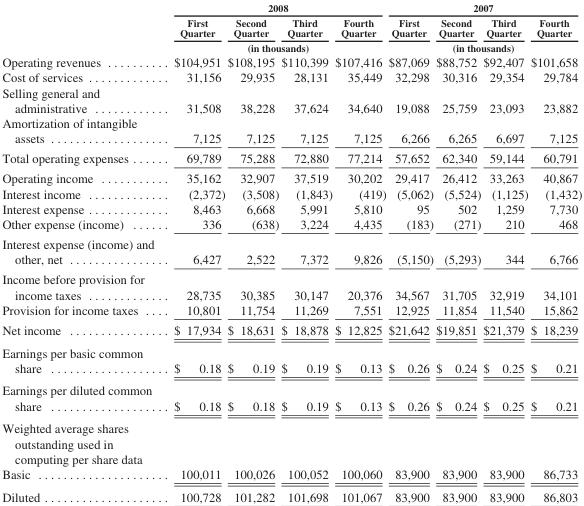table: (1, 1, 581, 503)
table column: (1, 1, 163, 503), (163, 1, 225, 503), (225, 1, 279, 503), (279, 1, 333, 503), (333, 1, 386, 503), (528, 1, 581, 503), (386, 1, 434, 503), (434, 1, 481, 503), (481, 1, 528, 503)
table column header: (1, 1, 581, 54)
table projected row header: (1, 416, 581, 465)
table row: (1, 416, 581, 465), (1, 340, 581, 378), (1, 378, 581, 416), (1, 233, 581, 268), (1, 114, 581, 147), (1, 268, 581, 301), (1, 84, 581, 114), (1, 14, 581, 39), (1, 319, 581, 340), (1, 147, 581, 167), (1, 465, 581, 484), (1, 484, 581, 503), (1, 167, 581, 185), (1, 215, 581, 233), (1, 301, 581, 319), (1, 39, 581, 54), (1, 54, 581, 69), (1, 69, 581, 84), (1, 185, 581, 200), (1, 200, 581, 215), (1, 1, 581, 14)
table spanning cell: (163, 39, 386, 54), (386, 39, 581, 54), (163, 1, 386, 14), (386, 1, 581, 14)
